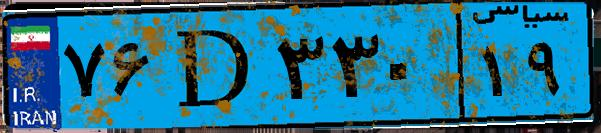0: (385, 28, 445, 110)
1: (475, 38, 525, 113)
3: (270, 28, 330, 110), (330, 28, 385, 110)
6: (110, 28, 158, 98)
7: (57, 26, 110, 100)
9: (525, 38, 570, 115)
D: (158, 12, 270, 120)
